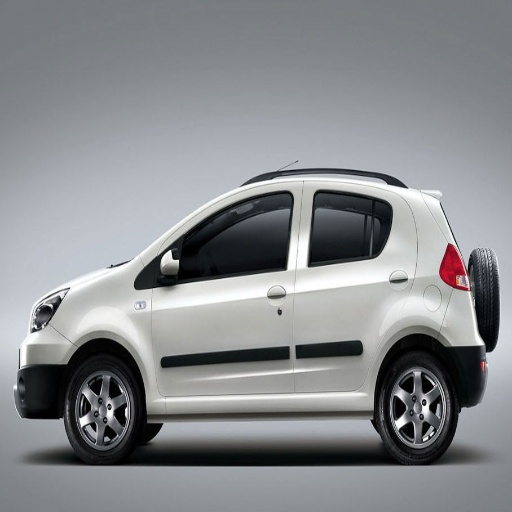back_left_door: (295, 181, 414, 394)
front_left_door: (152, 185, 301, 400)
